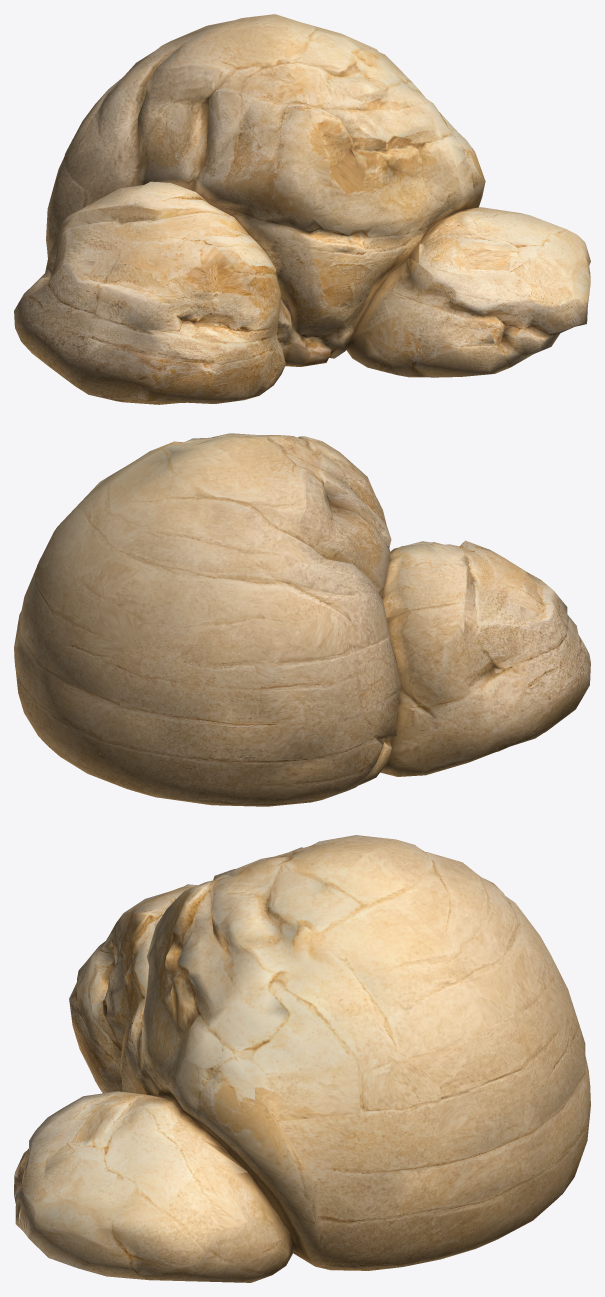
Rendered from rock-cluster-v1.glb.
3 renders of one model, top to bottom at view 1: azimuth 30°, elevation 25°; view 2: azimuth 150°, elevation 25°; view 3: azimuth 270°, elevation 25°, orthographic. The views are drawn at different scales.
Parts seen in each view (by area): view 1: tripo_node_e2ca3140-40e6-4f71-9779-ebfb045c1a67; view 2: tripo_node_e2ca3140-40e6-4f71-9779-ebfb045c1a67; view 3: tripo_node_e2ca3140-40e6-4f71-9779-ebfb045c1a67.
Part boxes in pixels (<box>): tripo_node_e2ca3140-40e6-4f71-9779-ebfb045c1a67: <box>14,14,590,404</box>; tripo_node_e2ca3140-40e6-4f71-9779-ebfb045c1a67: <box>14,433,590,806</box>; tripo_node_e2ca3140-40e6-4f71-9779-ebfb045c1a67: <box>14,835,590,1282</box>.
Bounding box in the file's own units: 0.8013 × 0.4004 × 0.6498.
1 material, 1 textured.
